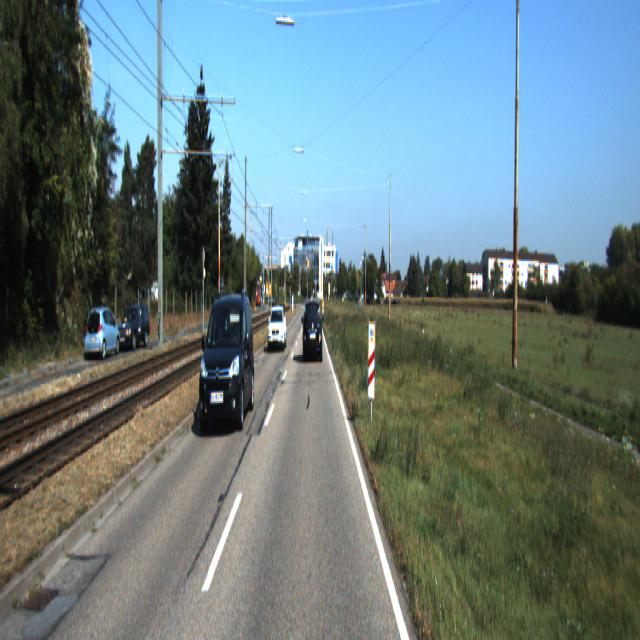Car: (198, 288, 256, 432), (85, 306, 122, 364), (116, 303, 152, 354), (303, 298, 323, 362), (268, 306, 287, 352)
